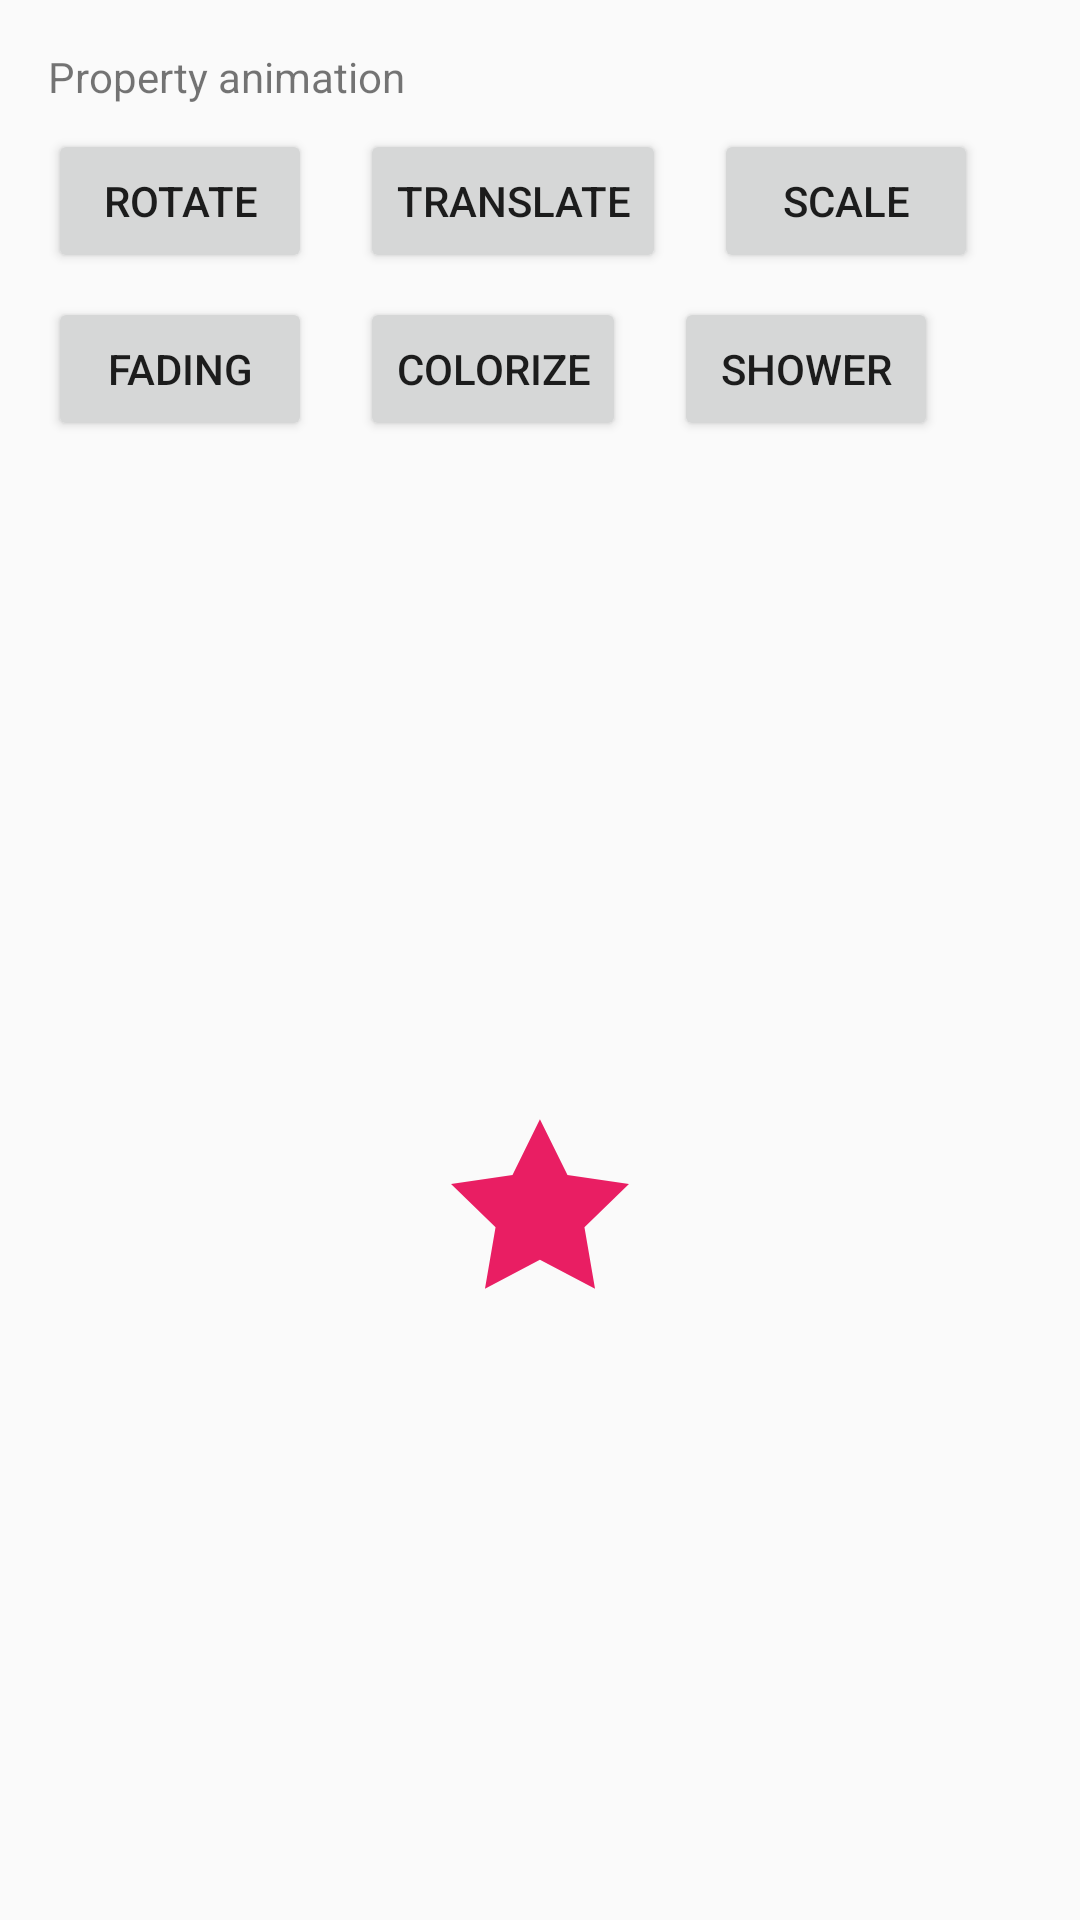

Point at icon controls on the screen. Image size 1080w x 1920h, points as (x=x, y=y).
star: (x=540, y=1204)
